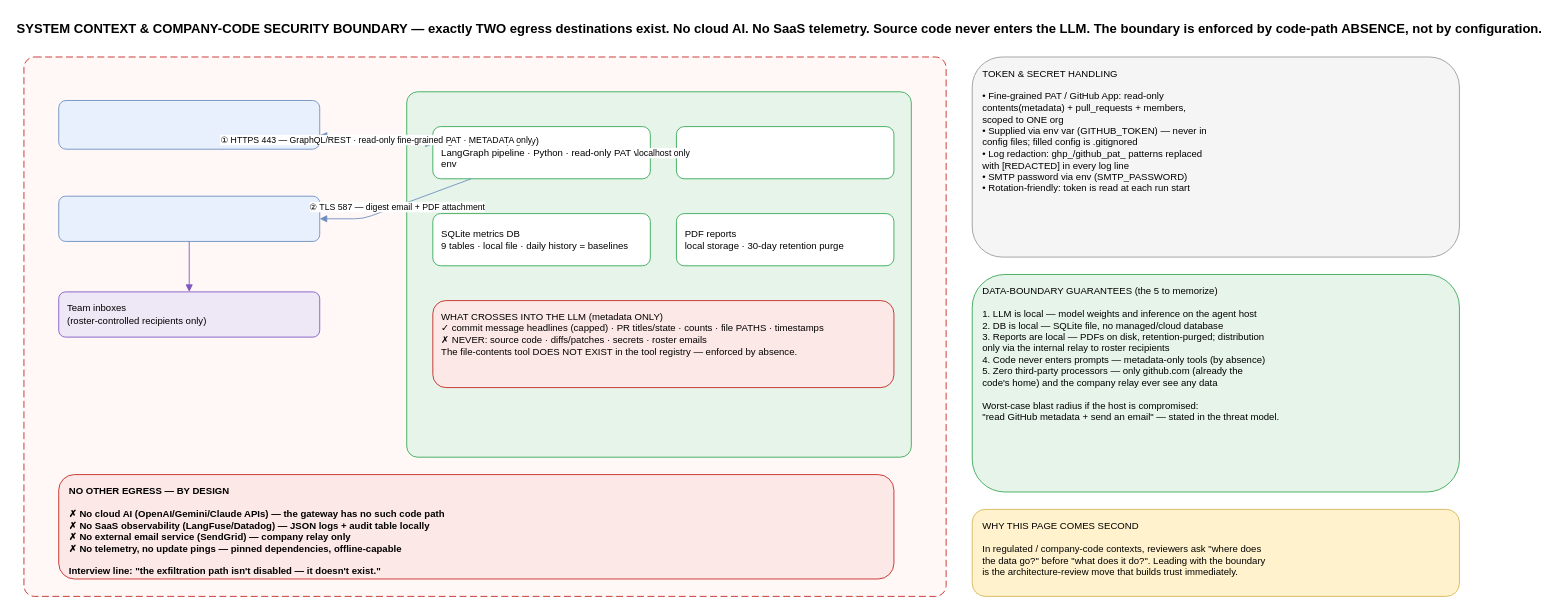
This 1556x612 diagram has some shape labels left out. Each missing label, with the box of its shape:
AGENT HOST — one machine / container (everything local): (406, 91, 911, 457)
COMPANY BOUNDARY: (23, 56, 946, 596)
Company SMTP relay (internal mail — TLS 587): (58, 195, 320, 241)
github.com — company organization (company's own GitHub · source of truth): (58, 100, 320, 149)
Ollama — llama3.2 localhost:11434 · the ONLY model endpoint the code can call: (676, 126, 894, 179)
